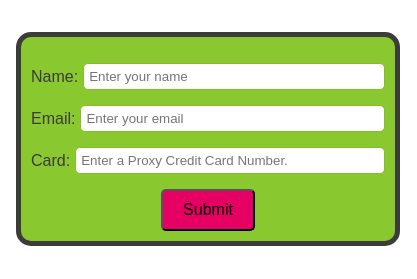
Test: FormComponent › displays error message for invalid card number input
Type "1234" into the field labelled "Card:" at (230, 160), box [75,147,385,174]
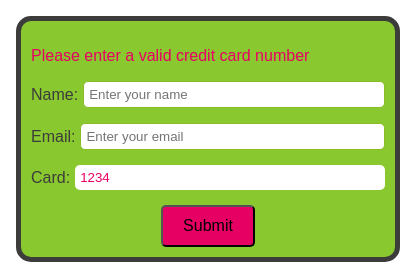
Now the list item "Please enter a valid credit card number" is shown, box [31,47,309,64]
